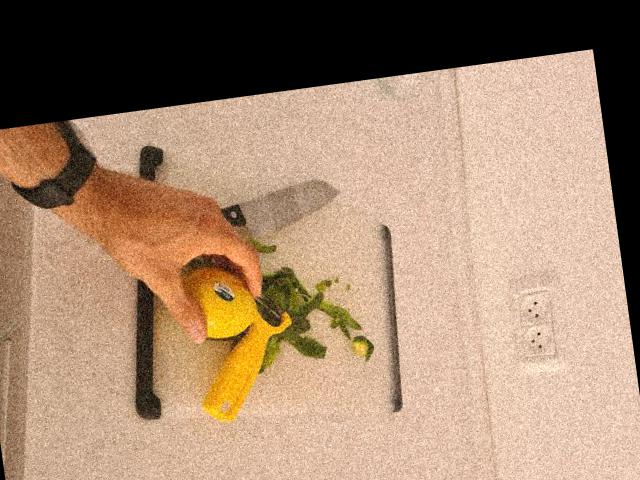lemon: (174, 259, 256, 345)
